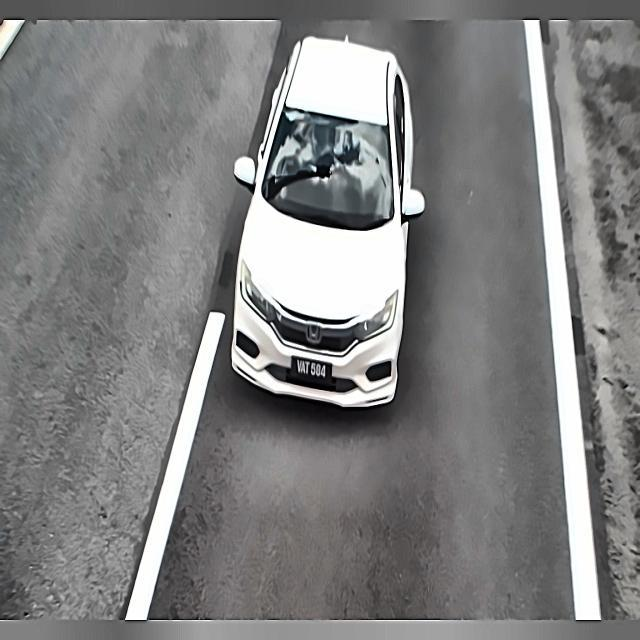car: (288, 348, 335, 386)
